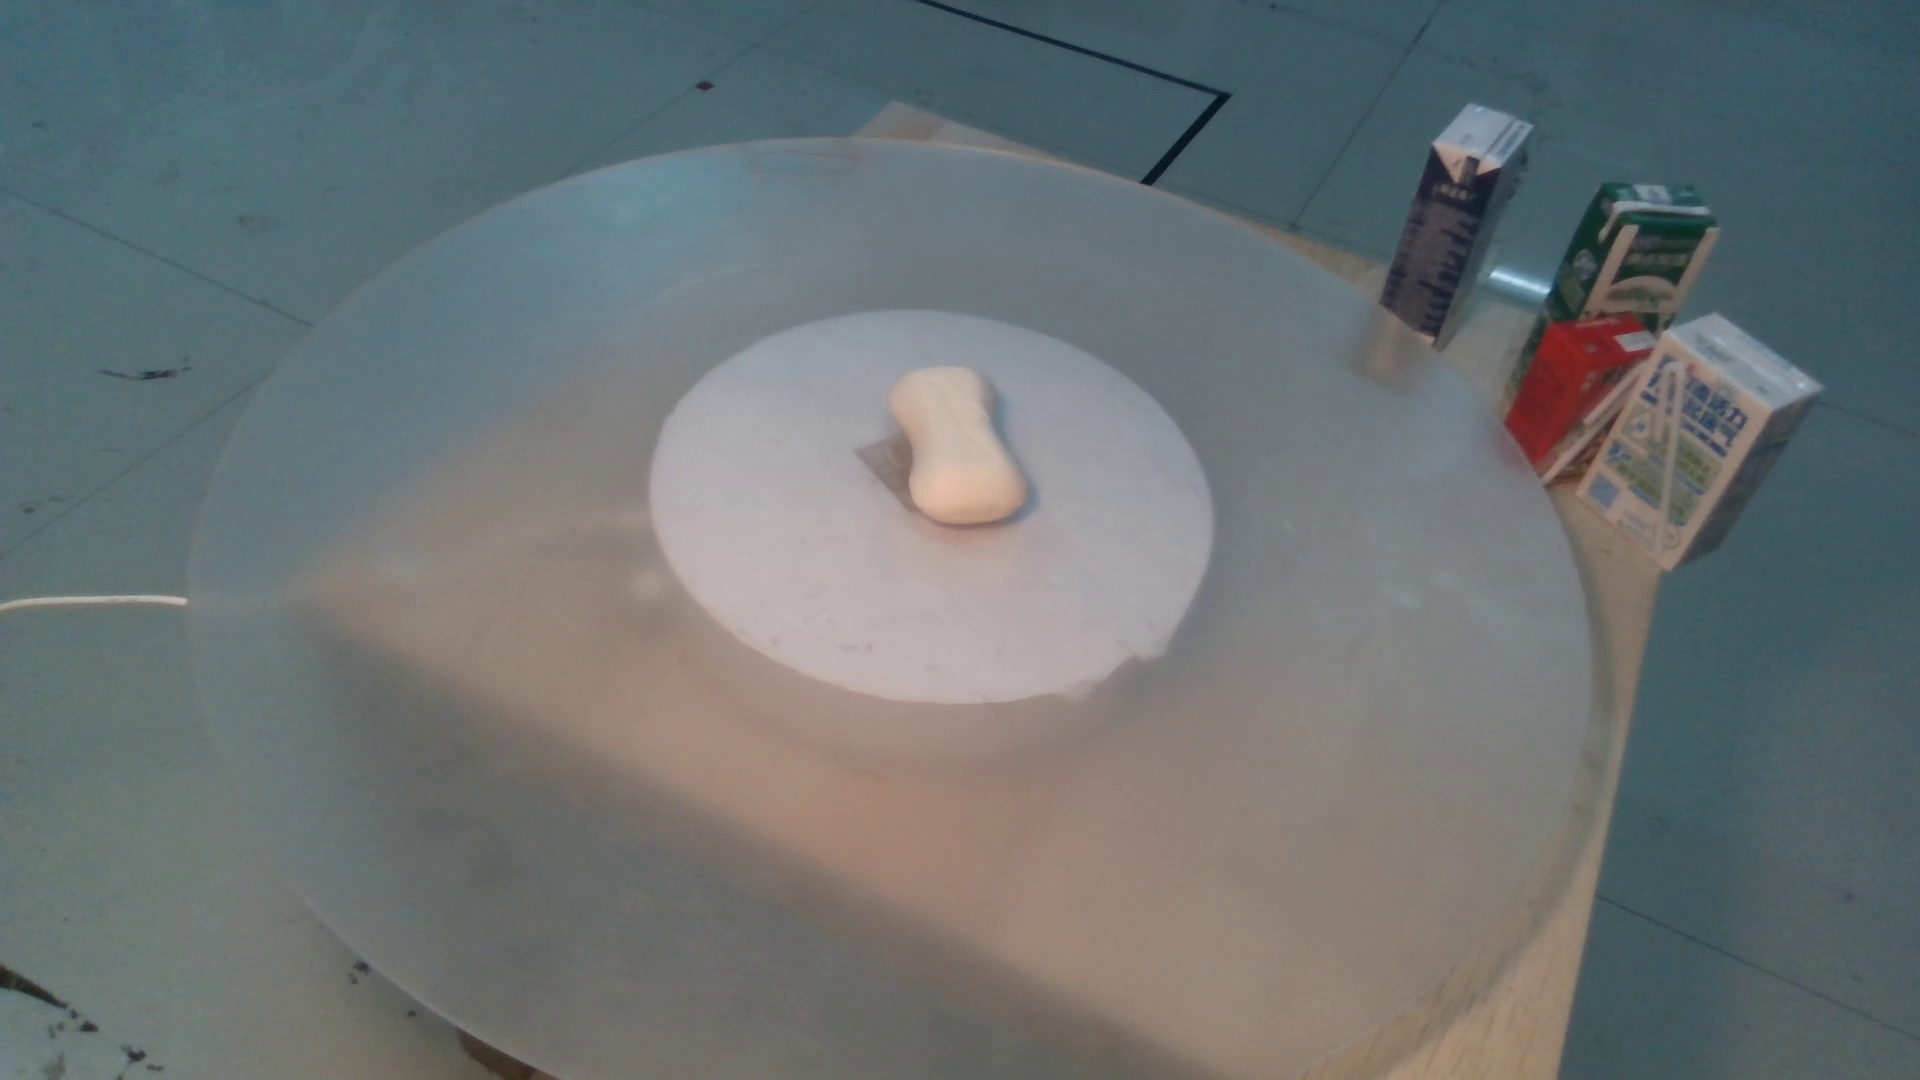CA003_1: (820, 339, 1034, 535)
